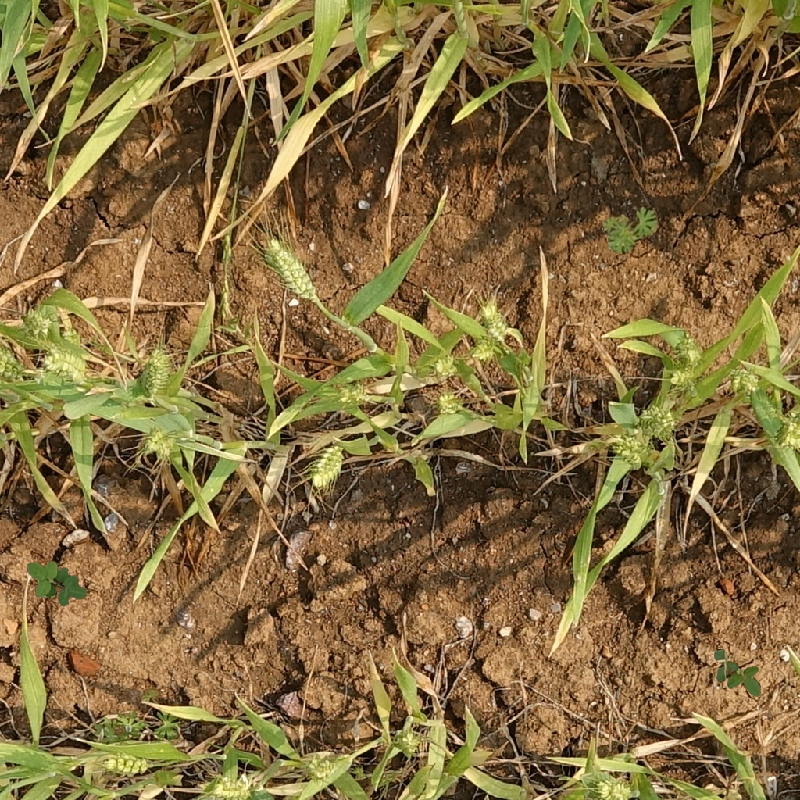spikelet: (263, 235, 320, 303), (137, 344, 175, 398), (40, 346, 90, 385), (308, 441, 346, 491), (610, 428, 651, 467), (140, 424, 181, 462), (100, 748, 150, 778), (477, 299, 510, 344), (638, 402, 677, 439), (727, 360, 763, 400), (203, 772, 256, 799), (300, 748, 337, 780), (20, 305, 54, 339), (335, 379, 370, 409), (596, 773, 634, 799), (674, 333, 704, 364), (433, 388, 465, 417), (428, 352, 460, 381), (393, 726, 421, 758), (1, 344, 25, 381), (778, 416, 800, 452)
weed: (604, 210, 662, 259), (27, 561, 87, 606), (714, 649, 761, 697)
